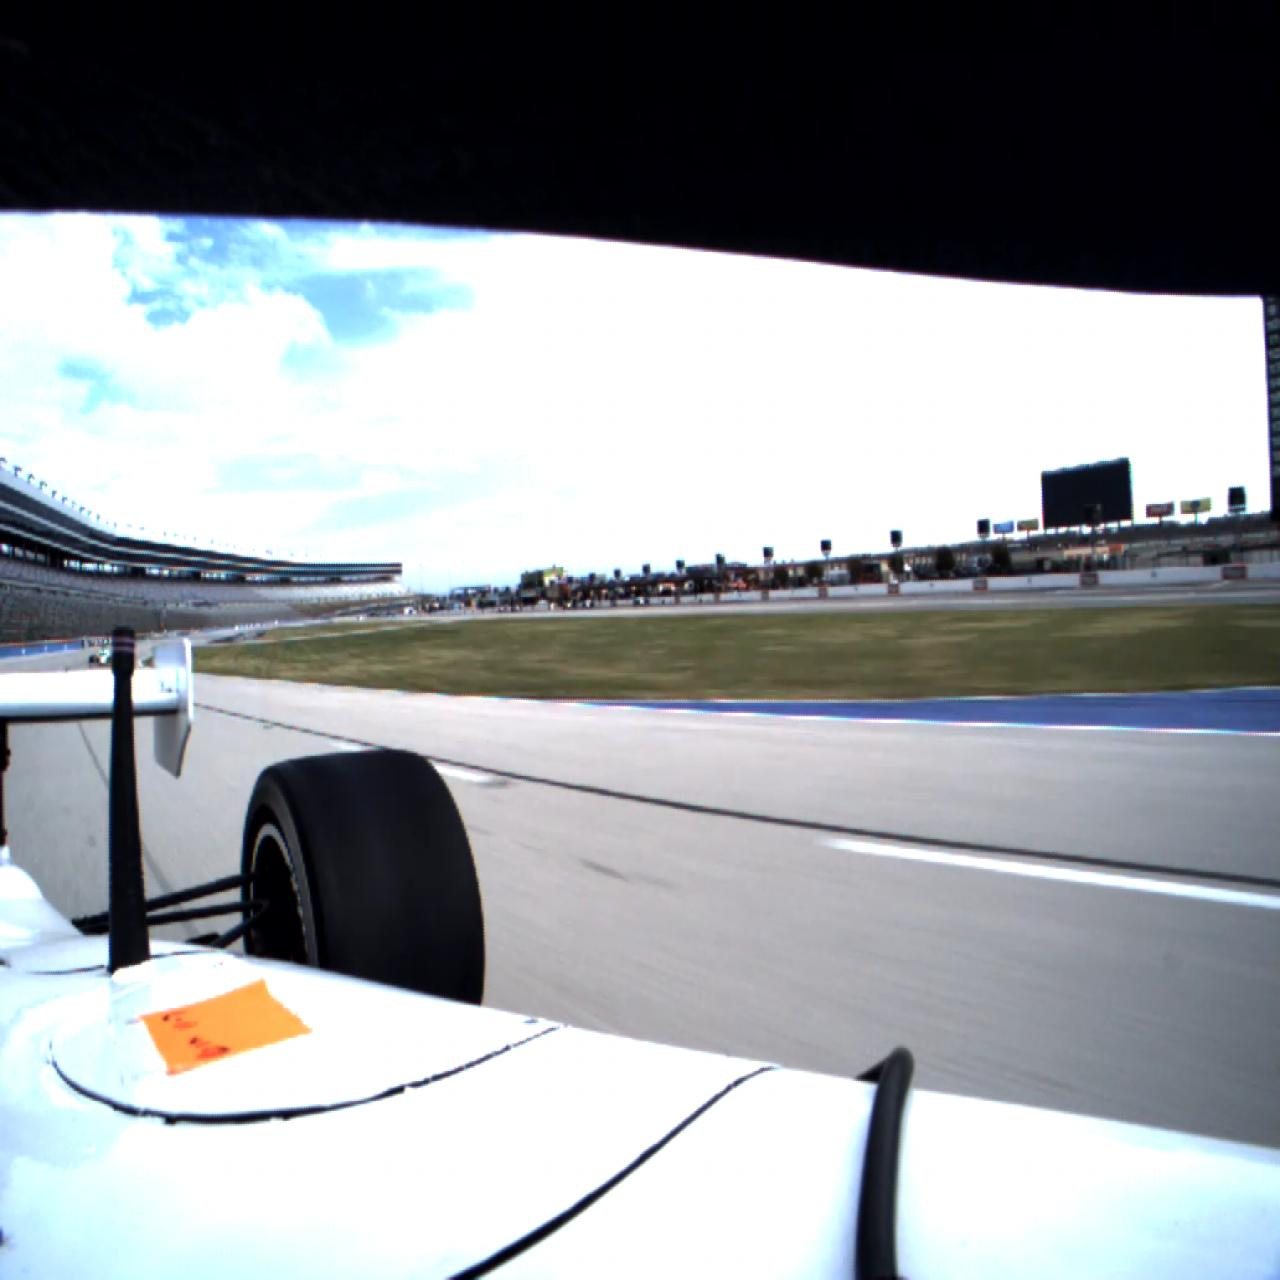AV: (89, 649, 112, 667)
Wheel: (239, 748, 485, 1008)
